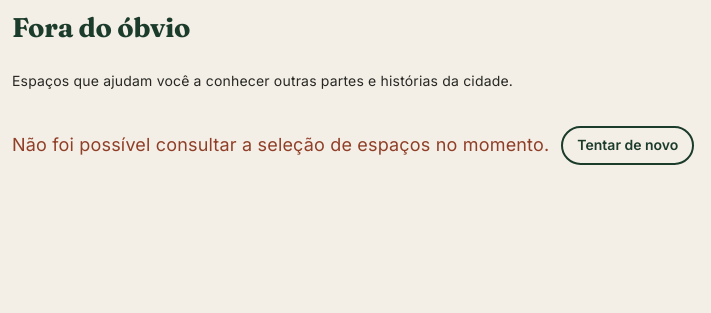
Test case: DiscoverSection › mostra o erro do backend e consulta de novo com "Tentar de novo"
The width and height of the screenshot is (711, 313).
Check: the text "Não foi possível consultar a seleção de espaços no momento." is shown, box [12,134,549,156]
Click the button "Tentar de novo" at (628, 146), box [561,126,694,165]
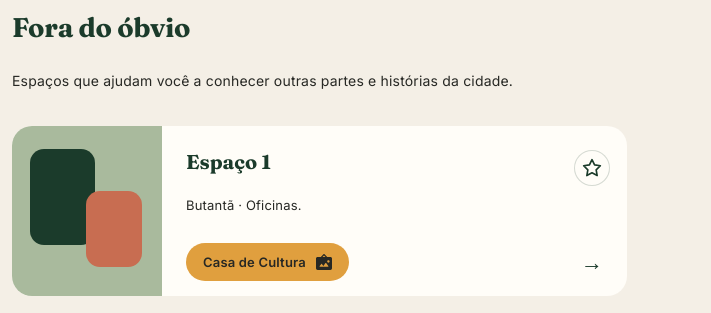
Check: the heading "Espaço 1" is shown, box [186,150,278,174]
